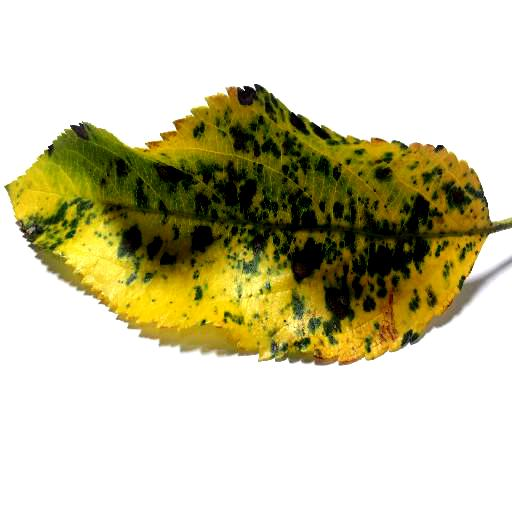Brown_Spot: (358, 237, 421, 277), (368, 295, 404, 346), (291, 243, 331, 276)
